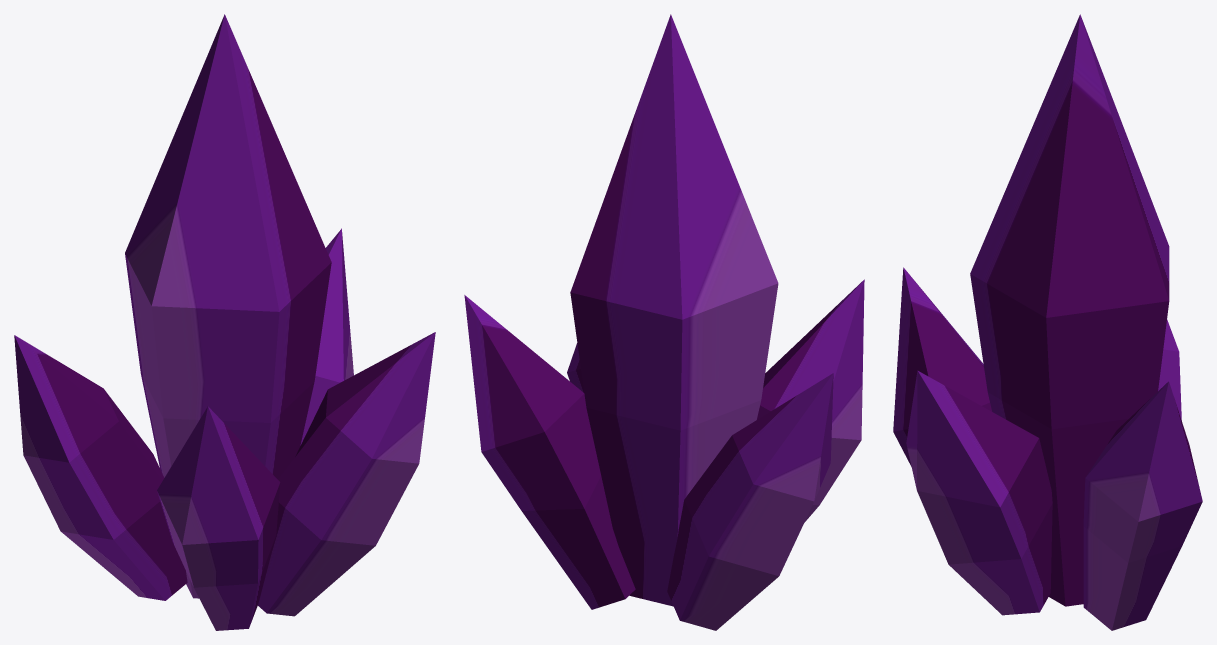
File: diamante1 1.fbx
The picture shows the model from 3 angles, left to right: view 1: azimuth 30°, elevation 25°; view 2: azimuth 150°, elevation 25°; view 3: azimuth 270°, elevation 25°; orthographic projection.
Visible parts, largest first — view 1: Cone.001; view 2: Cone.001; view 3: Cone.001.
Part boxes in pixels (x1,y1,x2,y2): Cone.001: (14,14,435,630); Cone.001: (464,14,864,630); Cone.001: (893,14,1202,630).
Bounding box in the file's own units: 367 × 587 × 281.
